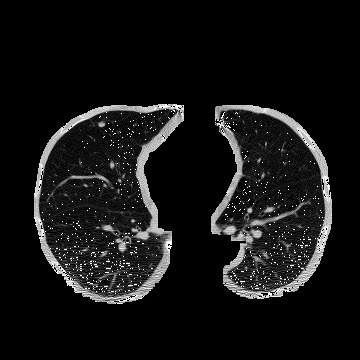PN: (98, 121, 104, 127)
